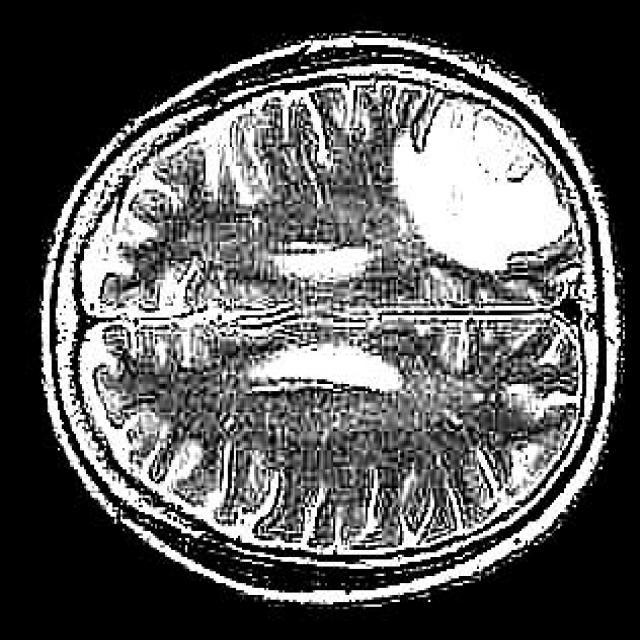tumor: (391, 95, 569, 273)
